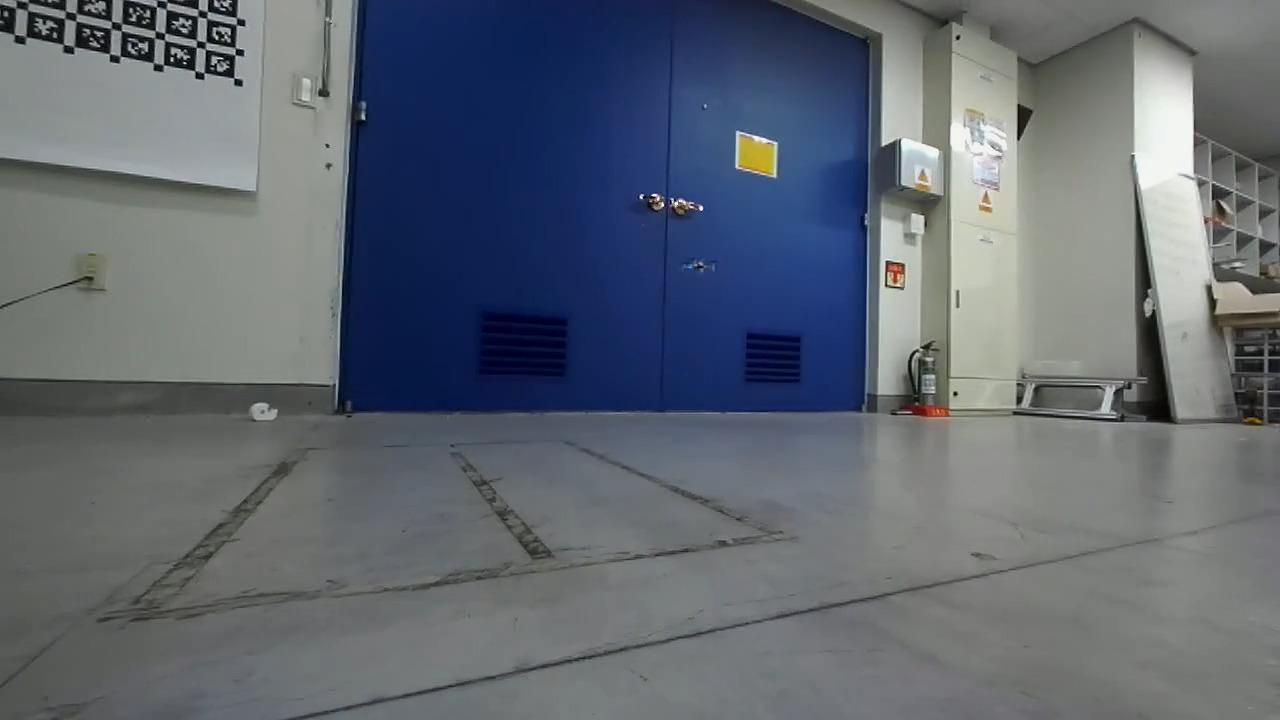crazyflie: (675, 255, 719, 278)
